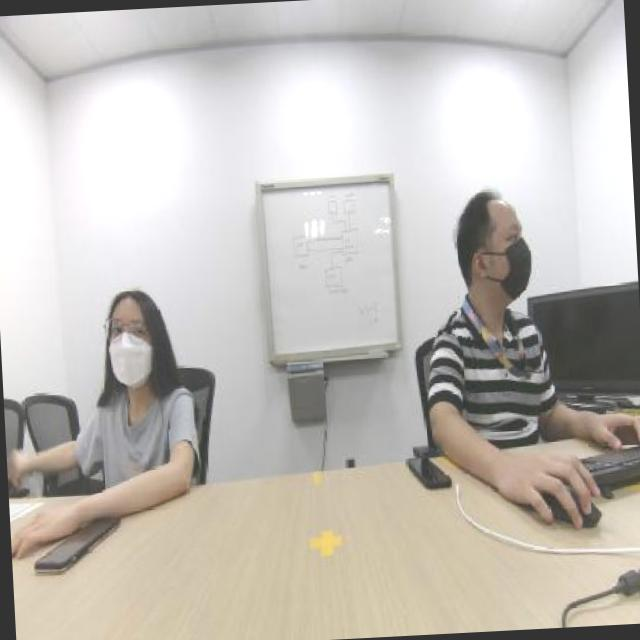Person: (44, 203, 218, 485), (422, 157, 564, 479)
